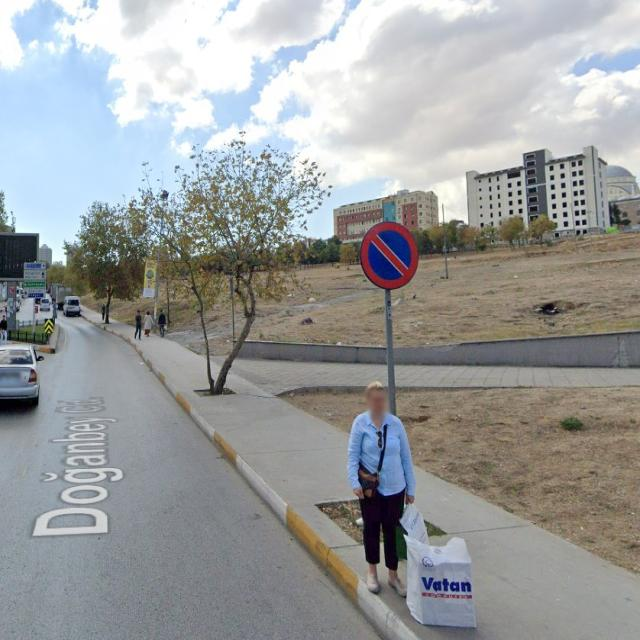parkyasak: (360, 221, 417, 289)
